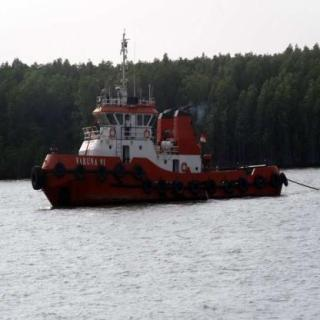Tug Boat: (38, 75, 288, 202)
